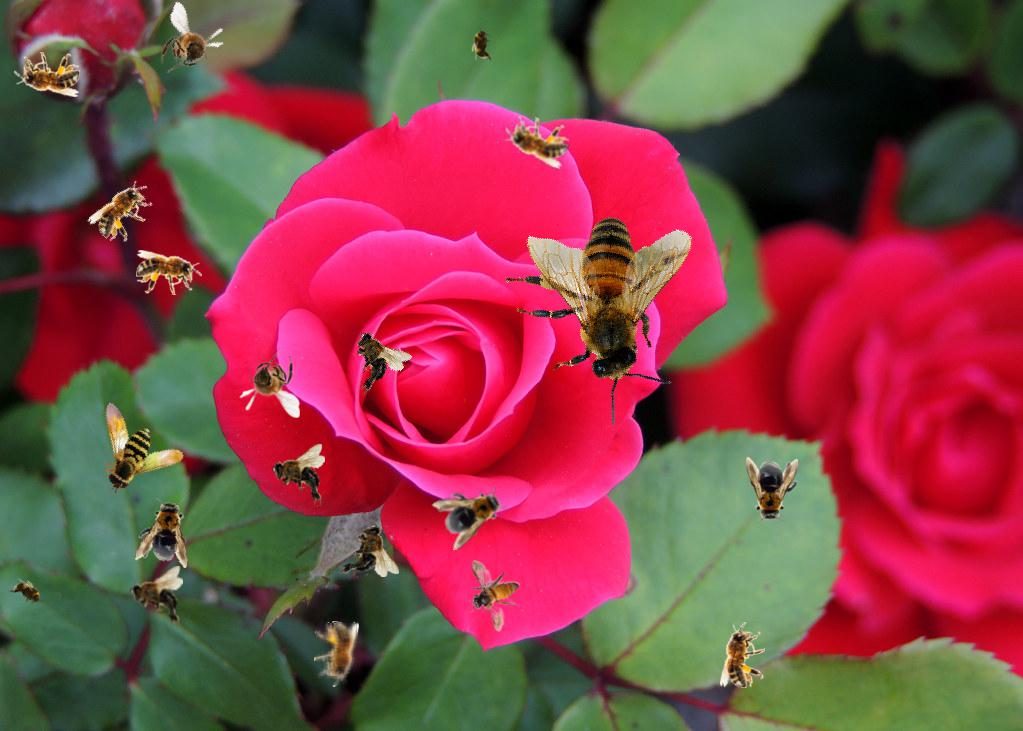Bee: (467, 163, 744, 441), (79, 384, 189, 496), (148, 0, 233, 90), (429, 473, 515, 551), (332, 318, 415, 398), (85, 170, 163, 251), (498, 108, 574, 171), (135, 494, 195, 568), (239, 348, 300, 418), (467, 559, 521, 634), (746, 457, 798, 525), (130, 566, 183, 628), (337, 524, 399, 577), (272, 444, 325, 506), (14, 52, 80, 97), (136, 250, 202, 295), (314, 621, 359, 687), (720, 622, 765, 688), (5, 572, 51, 614), (471, 24, 493, 64)
